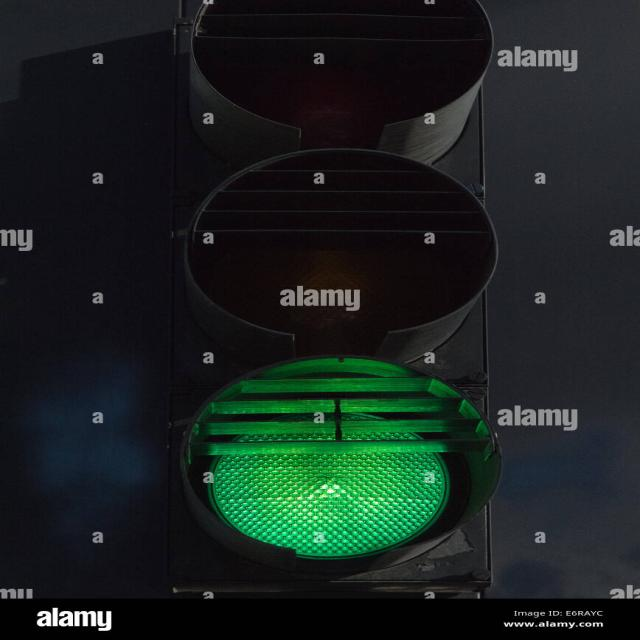green: (168, 328, 548, 568)
